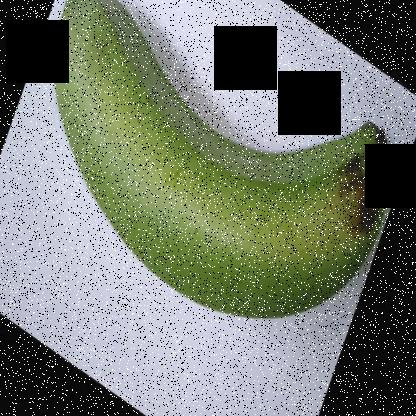freshunripe: (42, 0, 408, 333)
